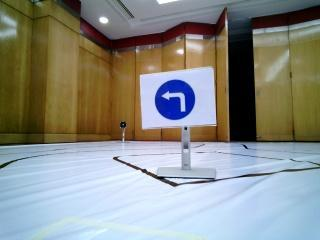left: (139, 72, 213, 125)
